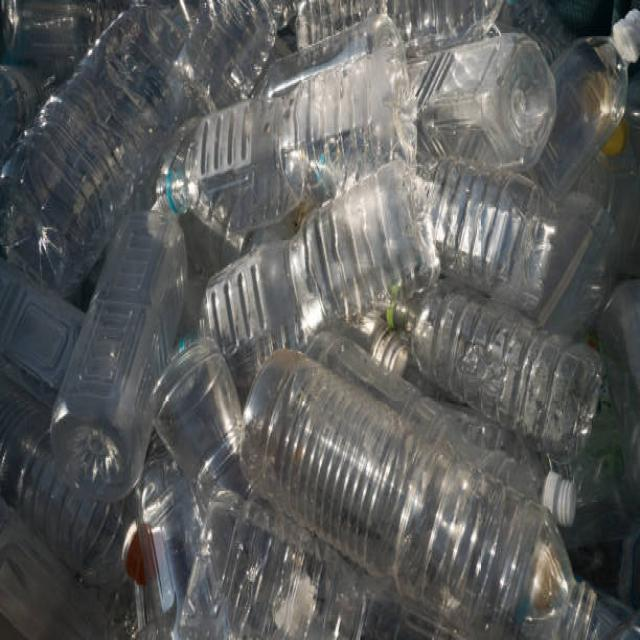plastic: (32, 25, 606, 635)
